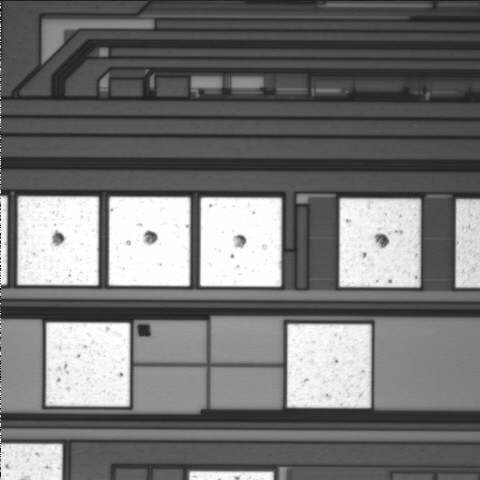pad: (200, 197, 282, 287), (339, 198, 421, 287), (18, 196, 99, 285), (109, 197, 190, 286), (46, 323, 130, 407), (287, 324, 371, 408)
